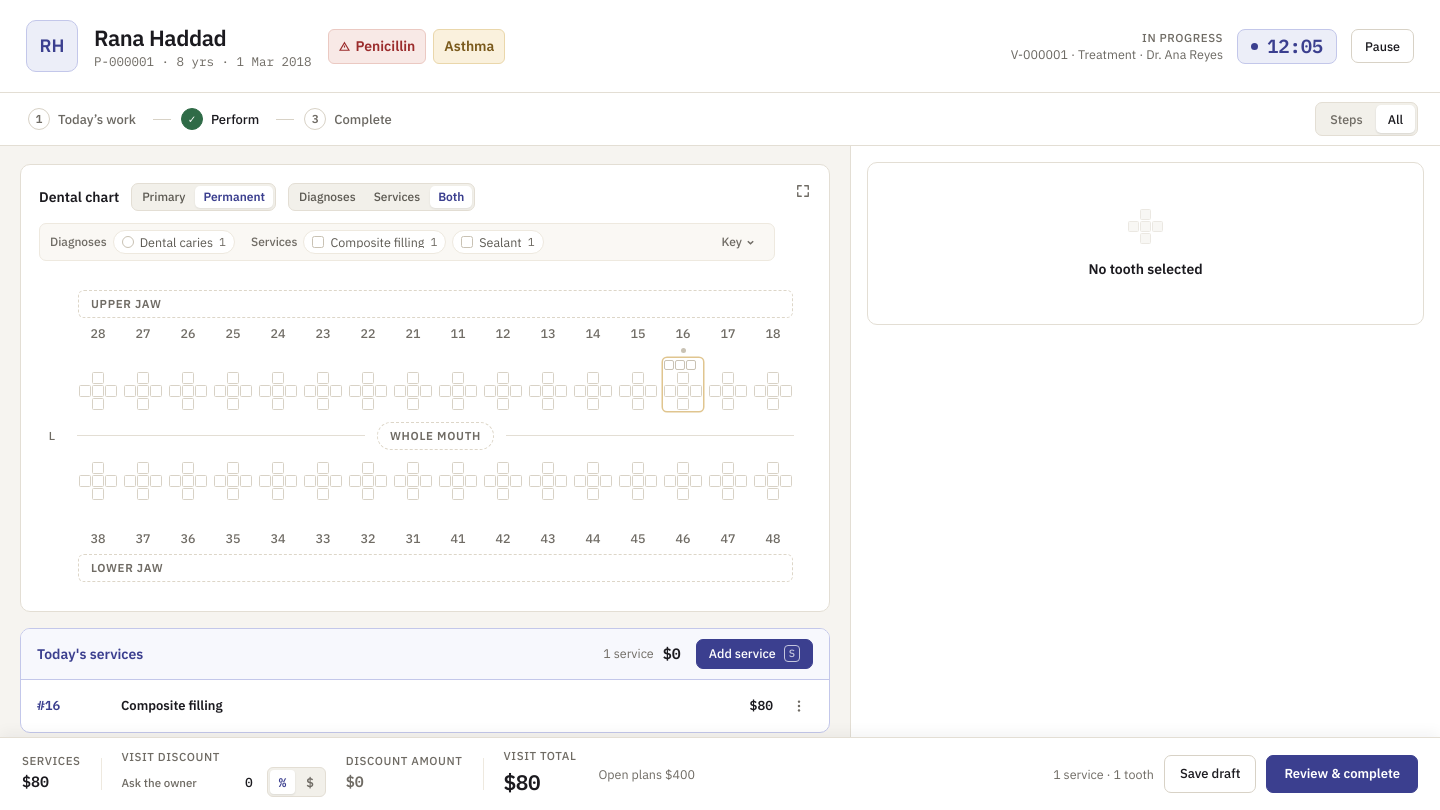
ToothPanel › collapses each stage to its summary
Expected: the element named "Upper arch" is shown, [78, 324, 793, 411]
Click the button named "#16 · " at (683, 367), box [663, 324, 703, 411]
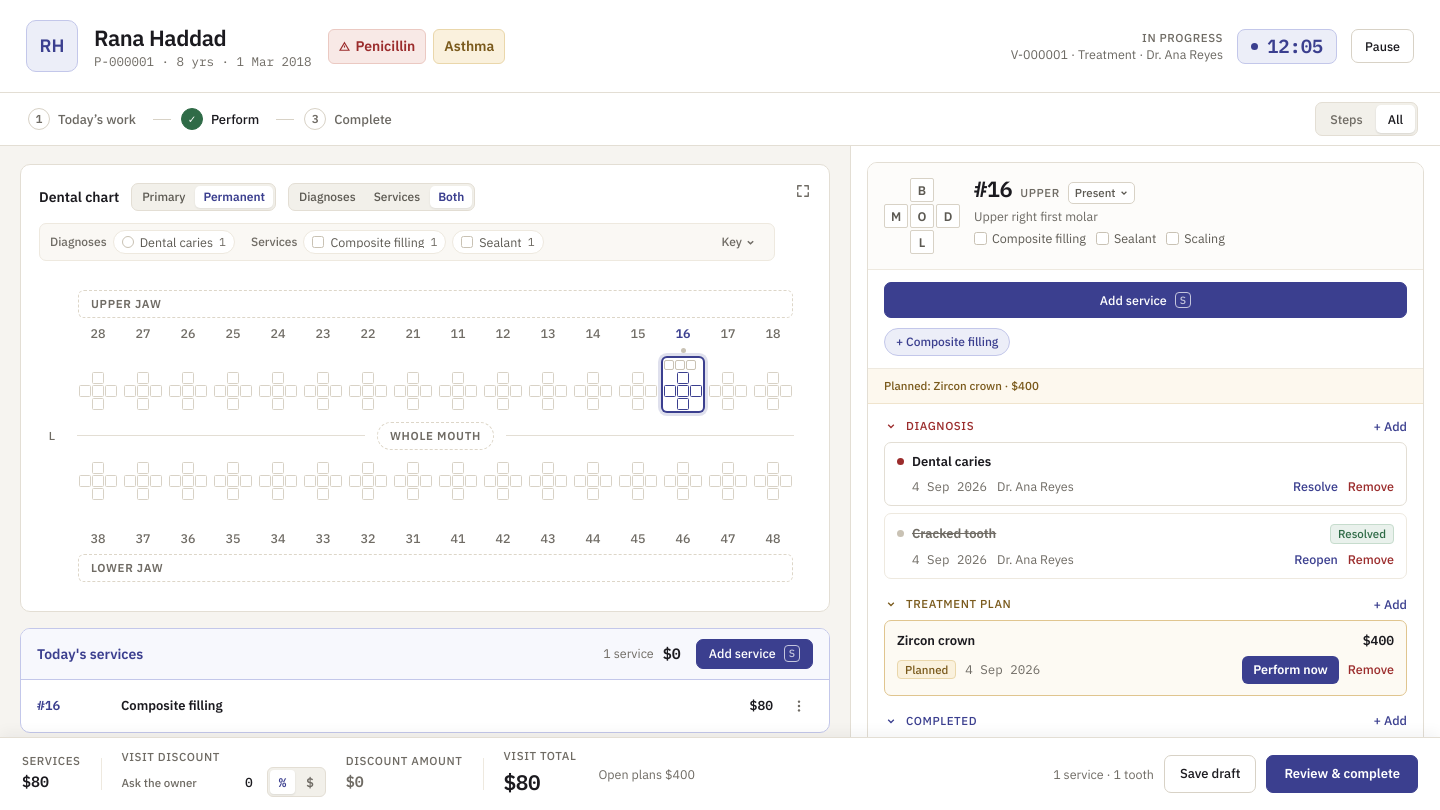
Click the button "Diagnosis" at (940, 426), box [884, 419, 1366, 433]
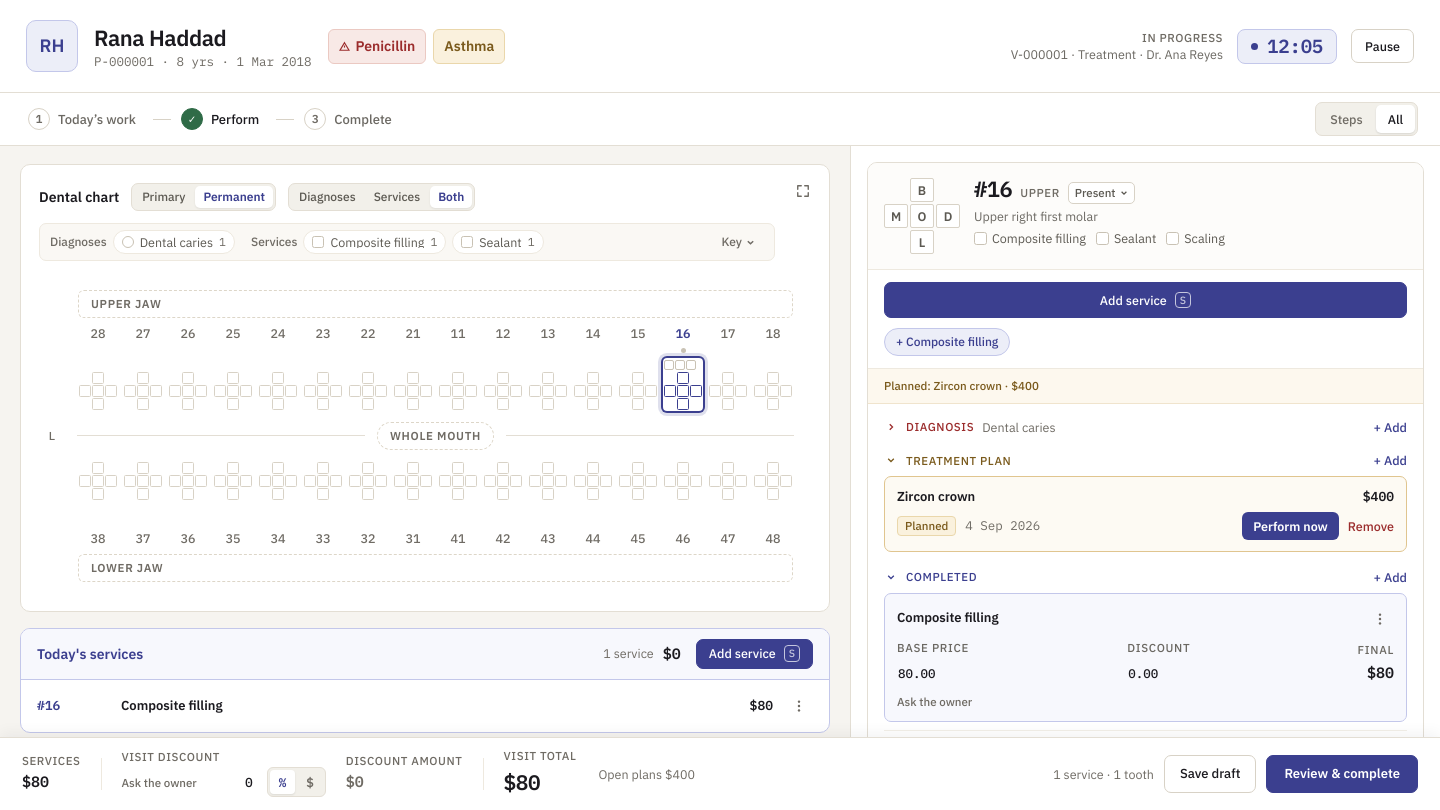
Click the button "Treatment plan" at (959, 460), box [884, 453, 1366, 467]
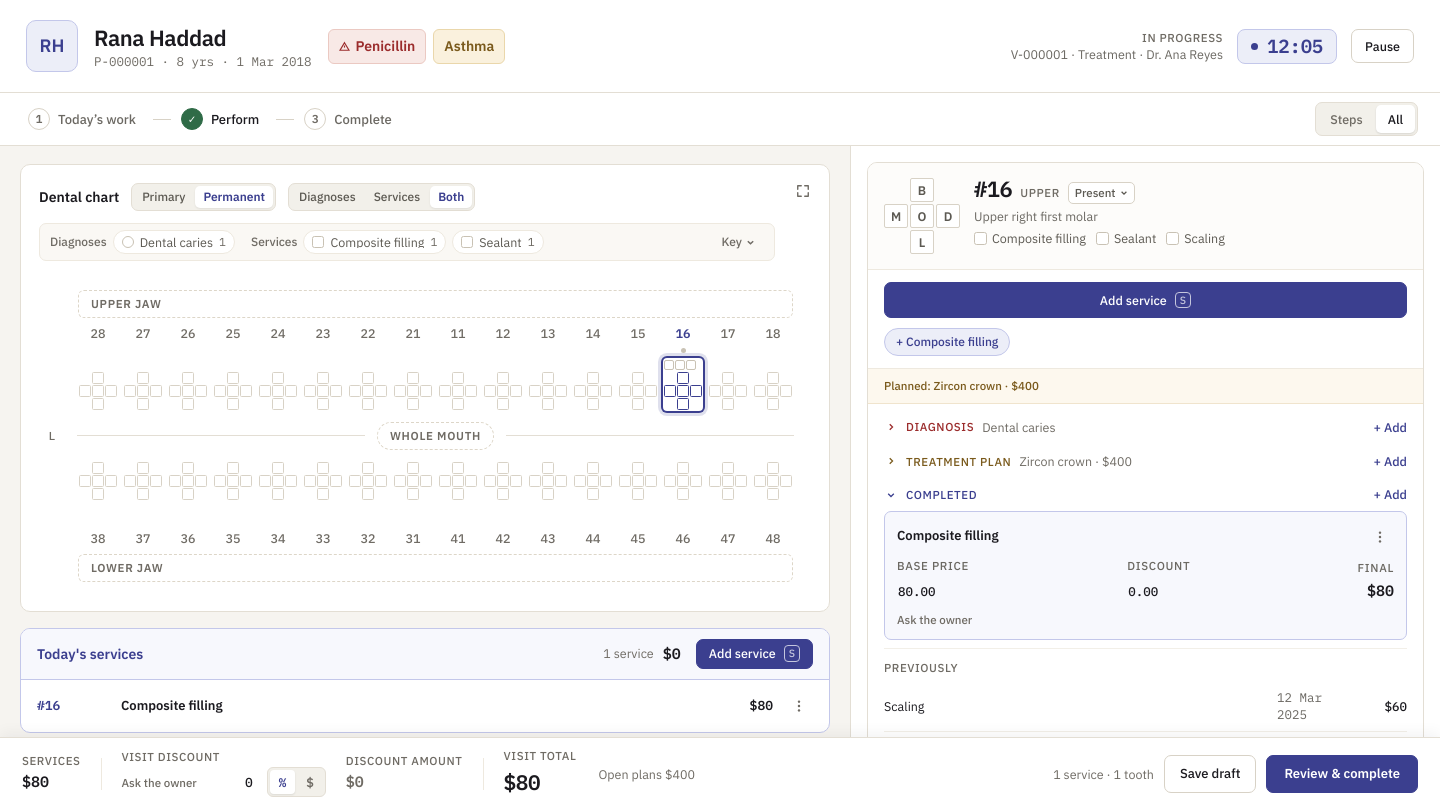
Click the button "Completed" at (942, 494), box [884, 488, 1366, 502]
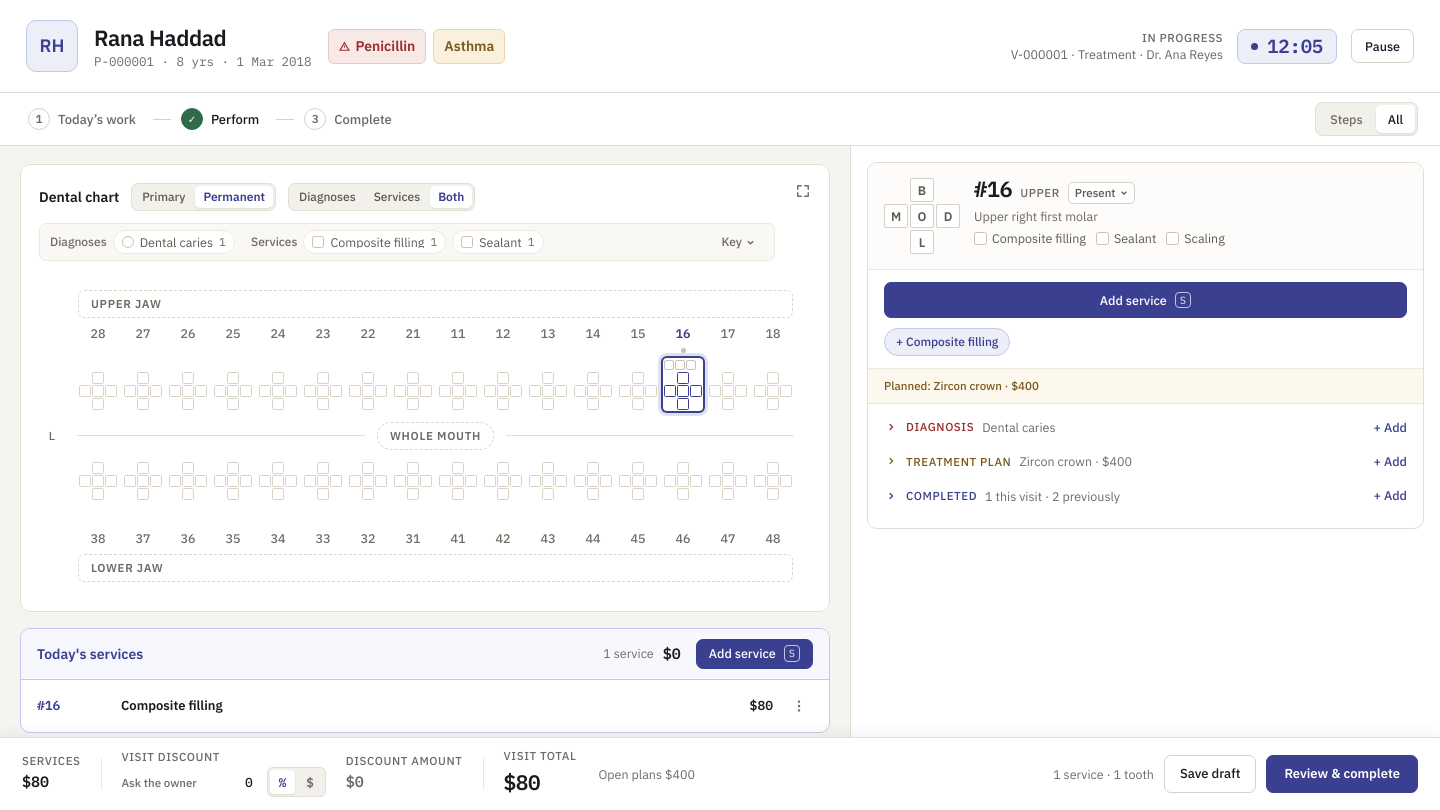
Expected: the text "Dental caries" below "Planned: Zircon crown · $400" is shown, [982, 419, 1056, 435]
Expected: the text "Zircon crown · $400" is shown, [1019, 453, 1132, 470]
Expected: the text "1 this visit · 2 previously" is shown, [985, 488, 1120, 504]
Click the button named "#17 · " at (728, 367), box [708, 324, 748, 411]
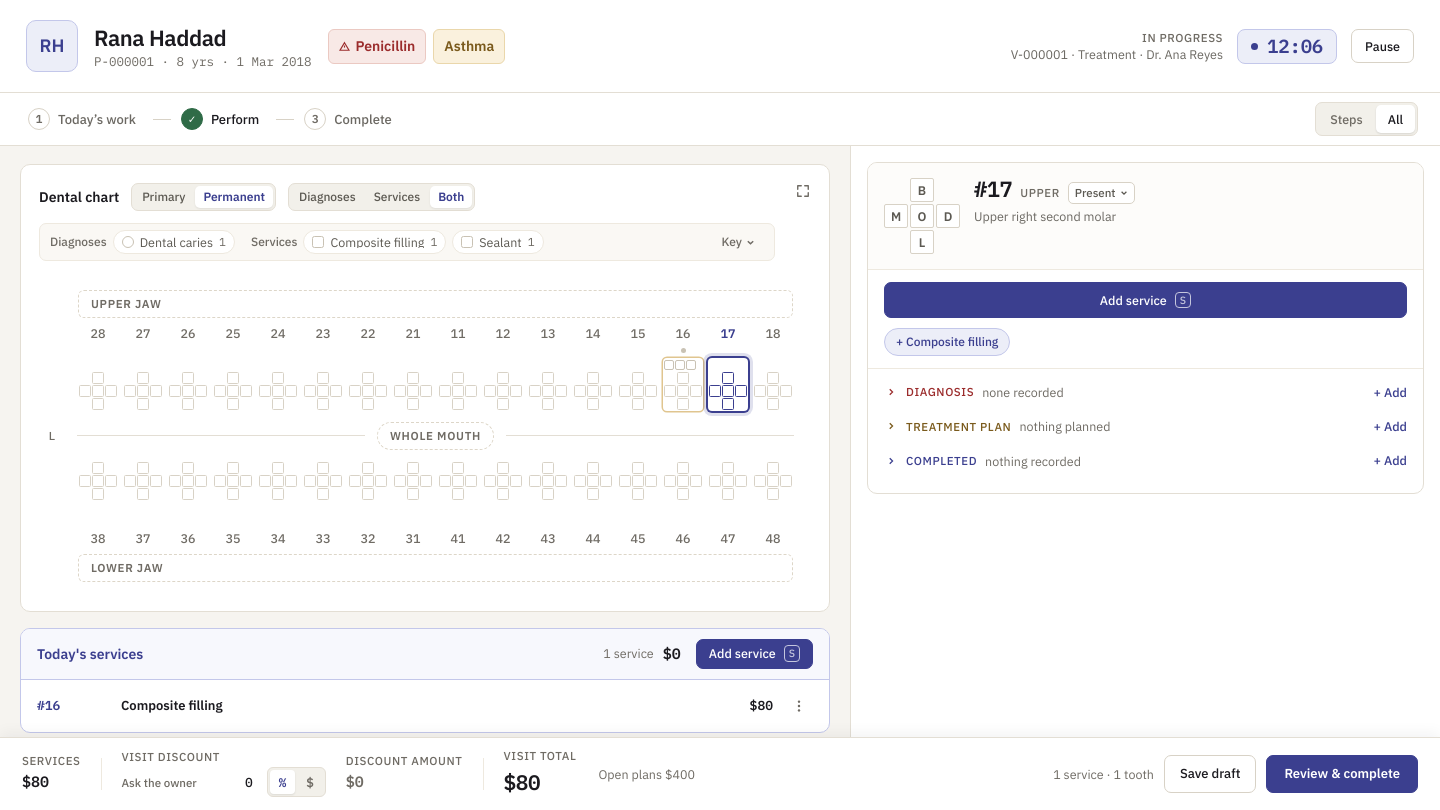
Expected: the text "none recorded" is shown, [982, 384, 1064, 400]
Expected: the text "nothing planned" is shown, [1019, 418, 1110, 435]
Expected: the text "nothing recorded" is shown, [985, 452, 1081, 469]
